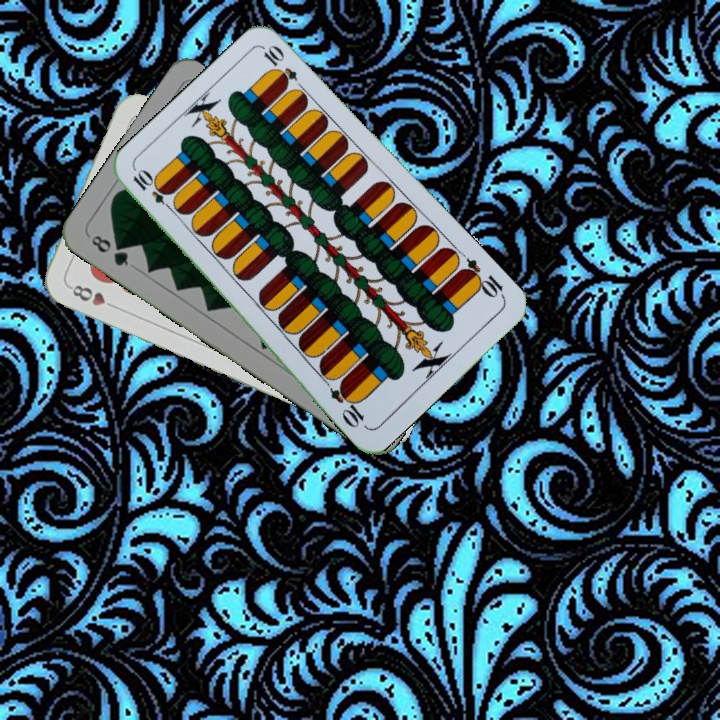E10: (456, 254, 508, 302), (128, 167, 178, 215)
G8: (86, 231, 131, 269)
H8: (65, 280, 121, 312)
